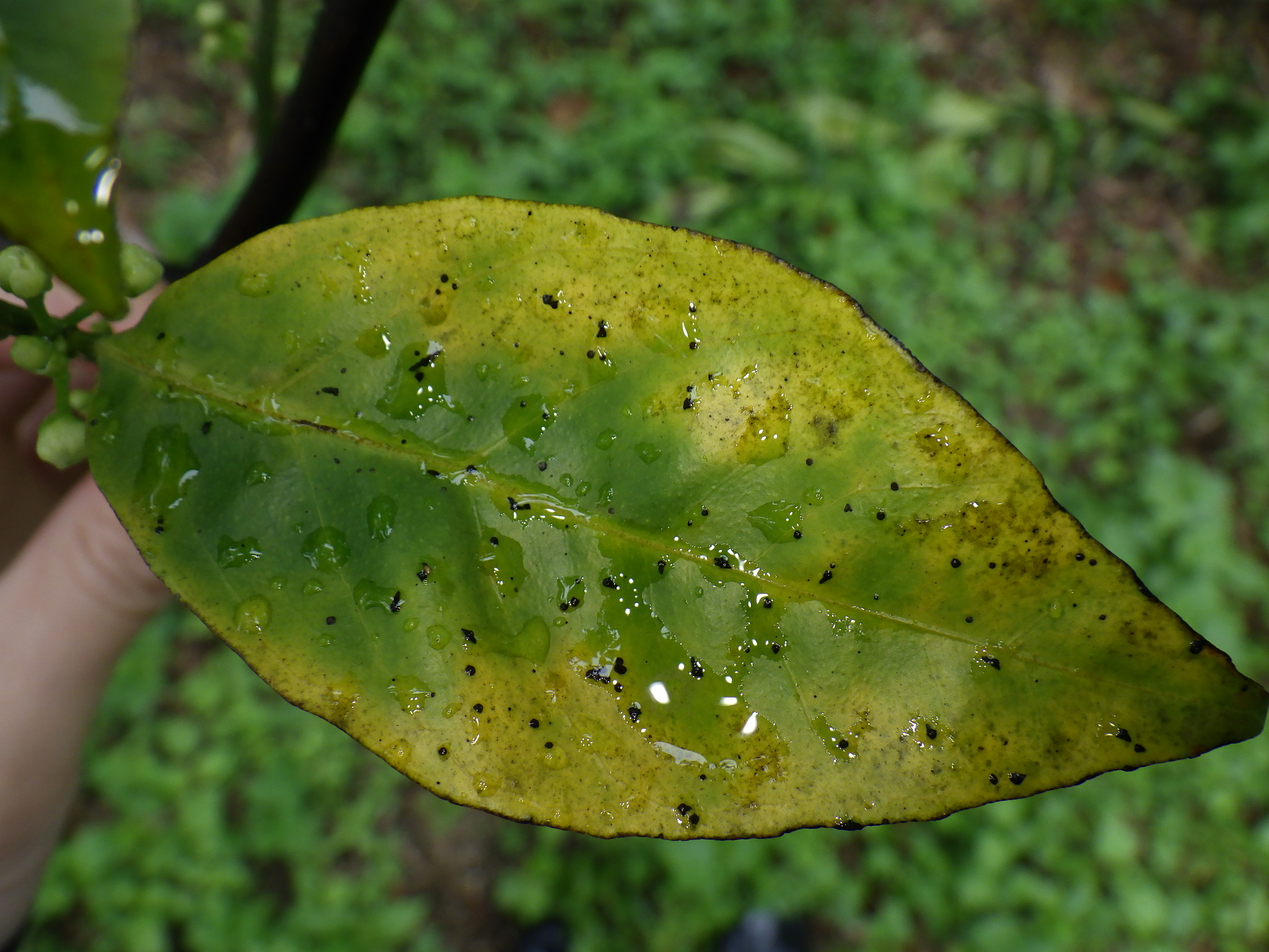Oily_Spot: (84, 198, 1268, 839)
